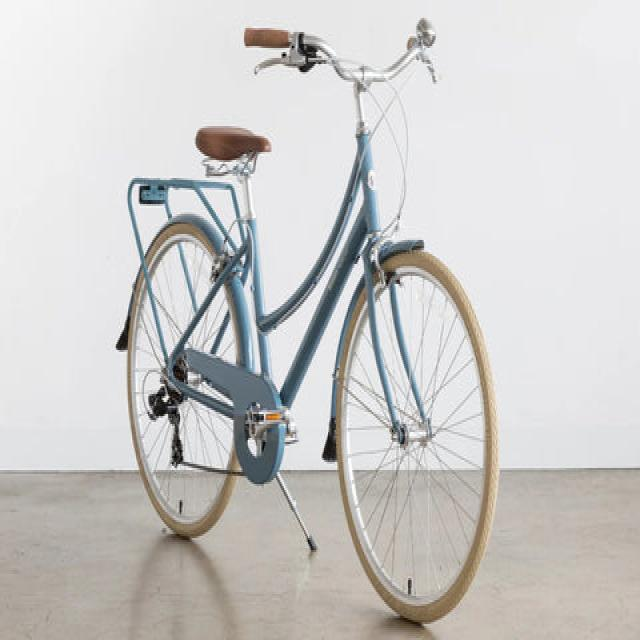urban-bike: (117, 16, 503, 626)
